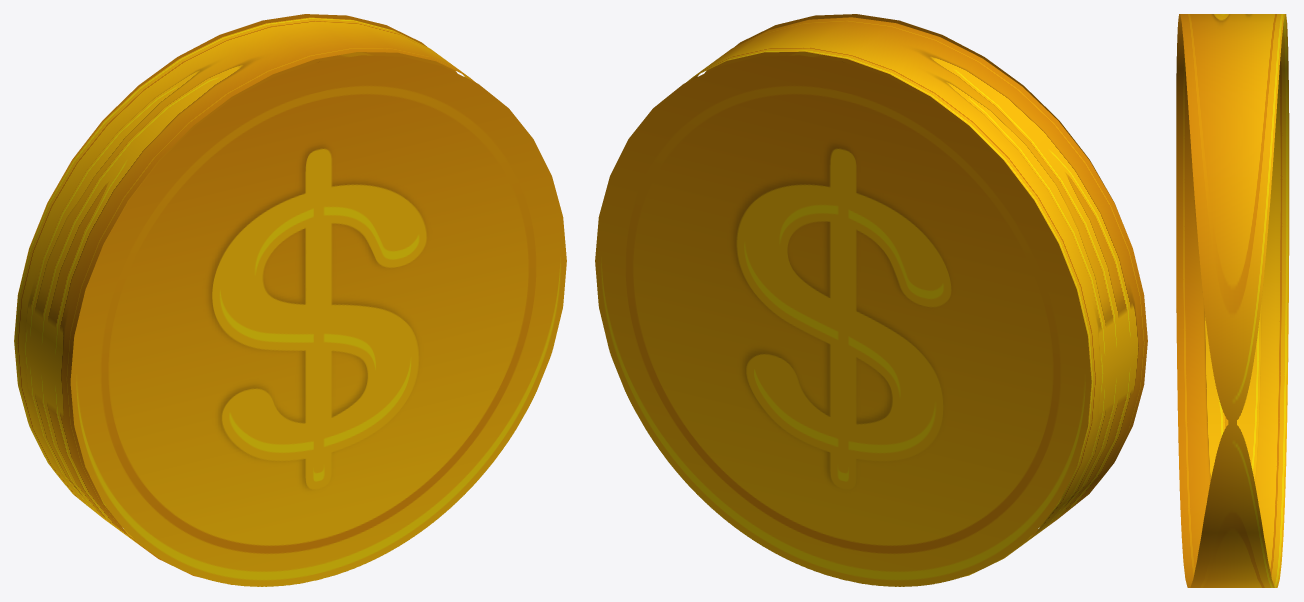
File: coin.fbx
3 renders of one model, left to right at view 1: azimuth 30°, elevation 25°; view 2: azimuth 150°, elevation 25°; view 3: azimuth 270°, elevation 25°, orthographic.
Visible parts, largest first — view 1: Cylinder; view 2: Cylinder; view 3: Cylinder.
Part boxes in pixels (bbox=[...]): Cylinder: bbox=[14, 14, 566, 586]; Cylinder: bbox=[595, 14, 1147, 586]; Cylinder: bbox=[1176, 14, 1289, 587].
Bounding box in the file's own units: 100 × 100 × 19.69.
Materials: 1 (1 with a texture image).
